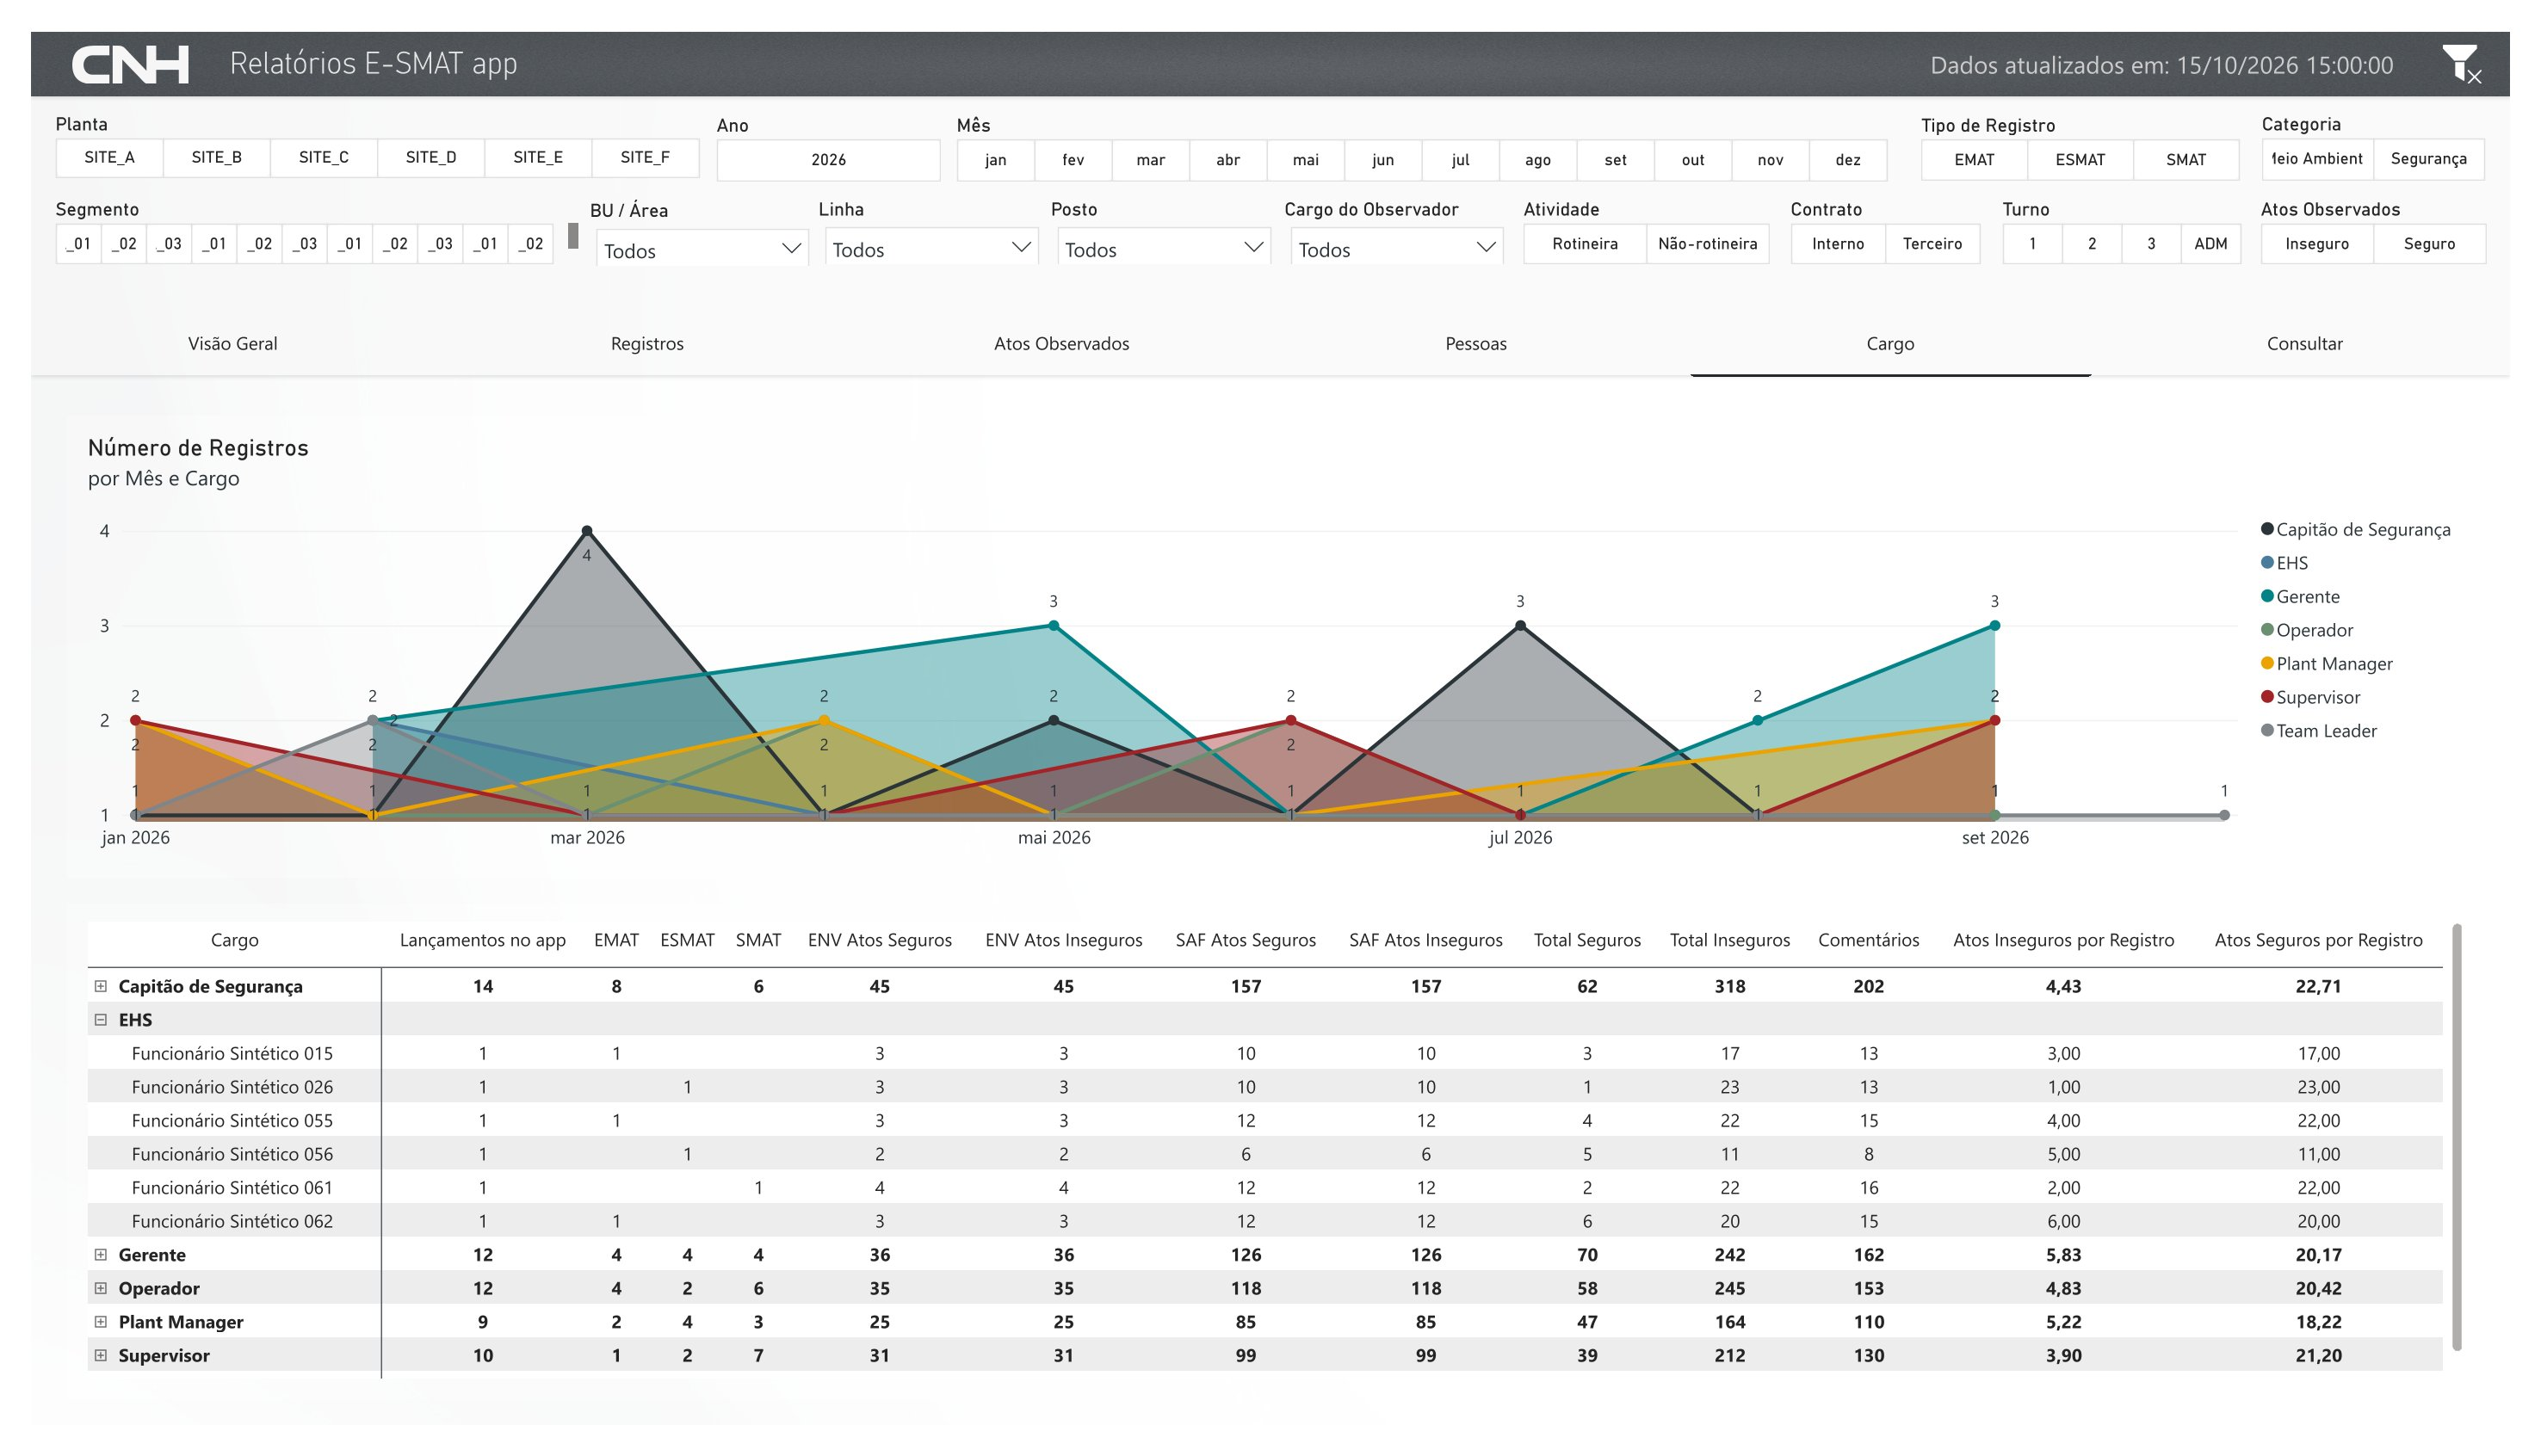

The dashboard page shown, as its layout file describes it:
{"tool":"powerbi","page":{"name":"Cargo","canvas":[1920,1080],"ordinal":4},"visuals":[{"type":"shape","box":[0,0,1920,266.7],"z":0},{"type":"image","box":[0,0,1920.6,50.5],"z":1000},{"type":"textbox","box":[154.3,11.4,300,38.6],"z":2000},{"type":"image","box":[1864.7,10.6,36.7,30],"z":3000},{"type":"image","box":[0,10.6,154.3,30.6],"z":4000},{"type":"advancedSlicerVisual","fields":{"Values":["d_cabecalho.Planta"]},"box":[18.6,63.8,504.1,50.5],"z":5000},{"type":"advancedSlicerVisual","fields":{"Values":["d_cabecalho.Ano"]},"box":[530.7,65.2,174.2,51.9],"z":6000},{"type":"advancedSlicerVisual","title":"Tipo de Registro","fields":{"Values":["d_cabecalho.TipoAuditoria"]},"box":[1464.4,65.2,248.7,50.5],"z":7000},{"type":"advancedSlicerVisual","title":"Mês","fields":{"Values":["d_calendario.nome_mes_abrev"]},"box":[717.3,65.3,732,52],"z":8000},{"type":"advancedSlicerVisual","title":"Categoria","fields":{"Values":["f_formulario.Tema"]},"box":[1727.7,63.8,174.2,51.9],"z":9000},{"type":"slicer","title":"BU / Área","fields":{"Values":["d_cabecalho.BUarea"]},"box":[433.3,130.7,174.7,51],"z":10000},{"type":"advancedSlicerVisual","title":"Segmento","fields":{"Values":["d_cabecalho.Segmento"]},"box":[18.7,130,405.3,51],"z":11000},{"type":"slicer","title":"Linha","fields":{"Values":["d_cabecalho.Linha"]},"box":[610,130,175.7,51.4],"z":12000},{"type":"slicer","title":"Posto","fields":{"Values":["d_cabecalho.Posto"]},"box":[790,130,175.7,51.4],"z":13000},{"type":"slicer","title":"Cargo do Observador","fields":{"Values":["d_cabecalho.Cargo"]},"box":[971.4,130,174.3,51.4],"z":14000},{"type":"advancedSlicerVisual","title":"Atividade","fields":{"Values":["d_cabecalho.TipoAtividade"]},"box":[1155.7,130,191.4,51.4],"z":15000},{"type":"advancedSlicerVisual","title":"Contrato","fields":{"Values":["d_cabecalho.TipoContrato"]},"box":[1362.9,130,148.6,51.4],"z":16000},{"type":"advancedSlicerVisual","title":"Atos Observados","fields":{"Values":["d_classificacao.Classificacao"]},"box":[1726.7,130,175.6,51],"z":17000},{"type":"pageNavigator","box":[0,217.3,1920,50.7],"z":18000},{"type":"advancedSlicerVisual","title":"Turno","fields":{"Values":["d_cabecalho.Turno"]},"box":[1526.7,130,186.7,51],"z":19000},{"type":"cardVisual","fields":{"Data":["d_medidas.Ultima_Atualizacao"]},"box":[1268,16,578,18],"z":21000},{"type":"pivotTable","fields":{"Rows":["d_cabecalho.Cargo","d_lista_matriculas.NomeFuncionario"],"Values":["CountNonNull(d_cabecalho.Titulo)","d_medidas.EMAT","d_medidas.ESMAT","d_medidas.SMAT","d_medidas.SA ENV","d_medidas.UA ENV","d_medidas.SA SAF","d_medidas.UA SAF","Sum(f_formulario.UA_UnsafeAct)","Sum(f_formulario.SA_SafeAct)","CountNonNull(f_formulario.Descricao)","d_medidas.Atos Inseguros por Registro"]},"box":[28,676,1872,384],"z":22000},{"type":"lineChart","title":"Número de Registros","fields":{"Category":["d_calendario.ano_mes"],"Series":["d_cabecalho.Cargo"],"Y":["CountNonNull(d_cabecalho.Titulo)"]},"box":[28,298,1872,358],"z":22001}]}

Visuals, with their boxes in screenshot pixels (x1, y1, x2, y2), scaled from the page's 1920x1080 canvas onto the 2541x1456 screenshot:
shape: {"left": 0, "top": 0, "right": 2540, "bottom": 360}
image: {"left": 0, "top": 0, "right": 2540, "bottom": 68}
textbox: {"left": 204, "top": 15, "right": 601, "bottom": 67}
image: {"left": 2468, "top": 15, "right": 2516, "bottom": 55}
image: {"left": 0, "top": 15, "right": 204, "bottom": 56}
advancedSlicerVisual - d_cabecalho.Planta: {"left": 25, "top": 86, "right": 692, "bottom": 154}
advancedSlicerVisual - d_cabecalho.Ano: {"left": 702, "top": 88, "right": 933, "bottom": 157}
"Tipo de Registro" advancedSlicerVisual: {"left": 1938, "top": 88, "right": 2267, "bottom": 156}
"Mês" advancedSlicerVisual: {"left": 949, "top": 88, "right": 1918, "bottom": 158}
"Categoria" advancedSlicerVisual: {"left": 2286, "top": 86, "right": 2517, "bottom": 156}
"BU / Área" slicer: {"left": 573, "top": 176, "right": 805, "bottom": 245}
"Segmento" advancedSlicerVisual: {"left": 25, "top": 176, "right": 561, "bottom": 244}
"Linha" slicer: {"left": 807, "top": 176, "right": 1040, "bottom": 244}
"Posto" slicer: {"left": 1046, "top": 176, "right": 1278, "bottom": 244}
"Cargo do Observador" slicer: {"left": 1286, "top": 176, "right": 1517, "bottom": 244}
"Atividade" advancedSlicerVisual: {"left": 1530, "top": 176, "right": 1783, "bottom": 244}
"Contrato" advancedSlicerVisual: {"left": 1803, "top": 176, "right": 2000, "bottom": 244}
"Atos Observados" advancedSlicerVisual: {"left": 2285, "top": 176, "right": 2518, "bottom": 244}
pageNavigator: {"left": 0, "top": 293, "right": 2540, "bottom": 361}
"Turno" advancedSlicerVisual: {"left": 2020, "top": 176, "right": 2267, "bottom": 244}
cardVisual - d_medidas.Ultima_Atualizacao: {"left": 1679, "top": 22, "right": 2443, "bottom": 46}
pivotTable - d_cabecalho.Cargo x d_lista_matriculas.NomeFuncionario: {"left": 37, "top": 911, "right": 2514, "bottom": 1429}
"Número de Registros" lineChart: {"left": 37, "top": 402, "right": 2514, "bottom": 885}
